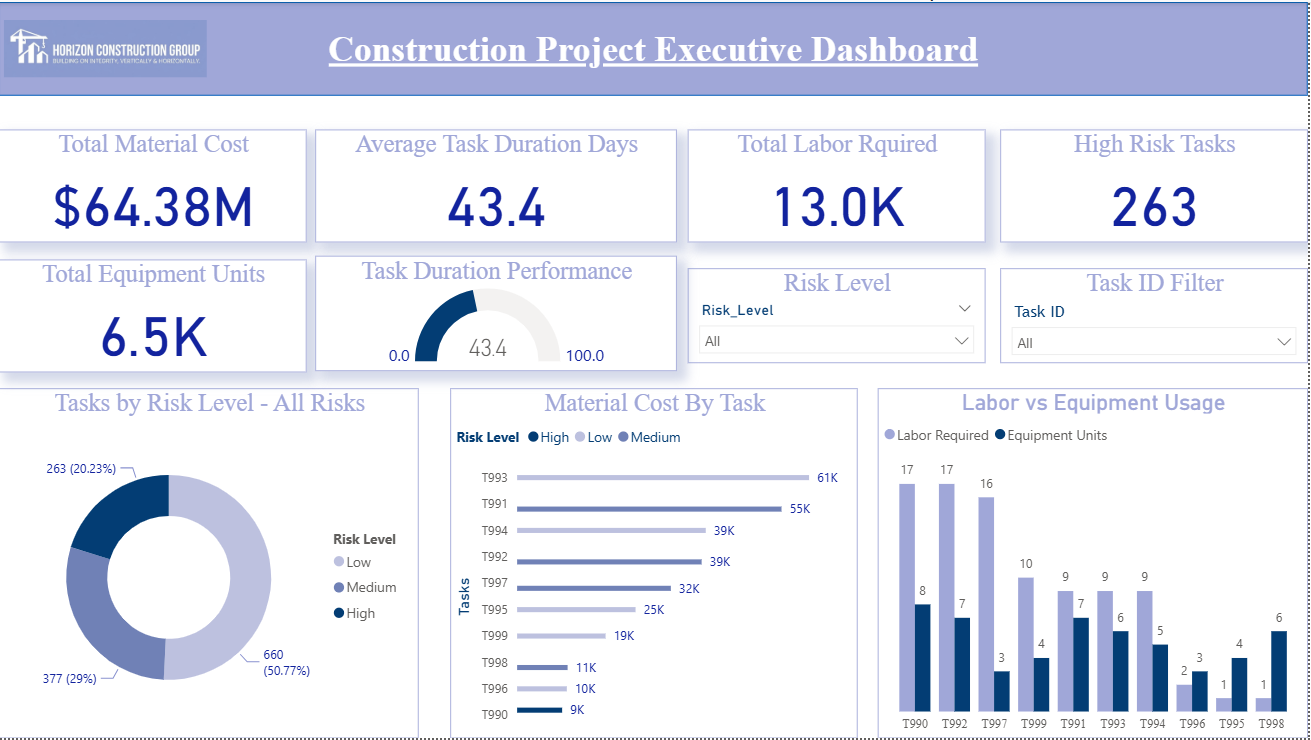

This screenshot's page, from the dashboard's own definition file:
{"tool":"powerbi","page":{"name":"Executive Dashboard","canvas":[1280,720],"ordinal":0},"visuals":[{"type":"shape","box":[0,0,1279.9,91.7],"z":0},{"type":"card","title":"Total Material Cost","fields":{"Values":["Measures Table.Total Material Cost"]},"box":[0,124.7,300.7,110],"z":1000},{"type":"card","title":"Average Task Duration Days","fields":{"Values":["Measures Table.Average Task Duration"]},"box":[309.3,124.7,353.3,110],"z":2000},{"type":"card","title":"Total Labor Rquired","fields":{"Values":["Measures Table.Total Labor Required"]},"box":[673.5,124.7,290.9,110],"z":3000},{"type":"card","title":"High Risk Tasks","fields":{"Values":["Measures Table.High Risk Task"]},"box":[979.2,124.7,300.7,110],"z":4000},{"type":"donutChart","fields":{"Category":["Dim Risk.Risk_Level"],"Y":["CountNonNull(Fact Constructions.Task_ID)"]},"box":[0,377.7,410.7,342.3],"z":5000},{"type":"clusteredBarChart","title":"Material Cost By Task","fields":{"Category":["Fact Constructions.Task_ID"],"Y":["Sum(Fact Constructions.Material_Cost_USD)"],"Series":["Dim Risk.Risk_Level"]},"box":[441.3,377.7,398.5,342.3],"z":6000},{"type":"clusteredColumnChart","title":"Labor vs Equipment Usage","fields":{"Category":["Fact Constructions.Task_ID"],"Y":["Sum(Fact Constructions.Labor_Required)","Sum(Fact Constructions.Equipment_Units)"]},"box":[859.4,377.7,420.5,342.3],"z":7000},{"type":"slicer","title":"Risk Level","fields":{"Values":["Dim Risk.Risk_Level"]},"box":[673.5,260.4,290.9,92.9],"z":8000},{"type":"slicer","title":"Task ID Filter","fields":{"Values":["Fact Constructions.Task_ID"]},"box":[979.2,260.4,300.7,92.9],"z":9000},{"type":"image","box":[0,0,207.8,91.7],"z":10000},{"type":"card","title":"Total Equipment Units","fields":{"Values":["Measures Table.Total Equipment Units"]},"box":[0,251.8,300.7,110],"z":11000},{"type":"gauge","title":"Task Duration Performance","fields":{"Y":["Measures Table.Average Task Duration"]},"box":[309.3,248.1,353.3,112.5],"z":12000}]}

Visuals, with their boxes in screenshot pixels (x1, y1, x2, y2), scaled from the page's 1280x720 canvas onto the 1311x740 screenshot:
shape: <box>0,0,1310,94</box>
"Total Material Cost" card: <box>0,128,308,241</box>
"Average Task Duration Days" card: <box>317,128,679,241</box>
"Total Labor Rquired" card: <box>690,128,988,241</box>
"High Risk Tasks" card: <box>1003,128,1310,241</box>
donutChart - Dim Risk.Risk_Level x CountNonNull(Fact Constructions.Task_ID): <box>0,388,421,739</box>
"Material Cost By Task" clusteredBarChart: <box>452,388,860,739</box>
"Labor vs Equipment Usage" clusteredColumnChart: <box>880,388,1310,739</box>
"Risk Level" slicer: <box>690,268,988,363</box>
"Task ID Filter" slicer: <box>1003,268,1310,363</box>
image: <box>0,0,213,94</box>
"Total Equipment Units" card: <box>0,259,308,372</box>
"Task Duration Performance" gauge: <box>317,255,679,371</box>
